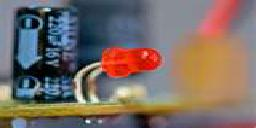Electrolytic-Capacitor: (10, 1, 78, 110)
